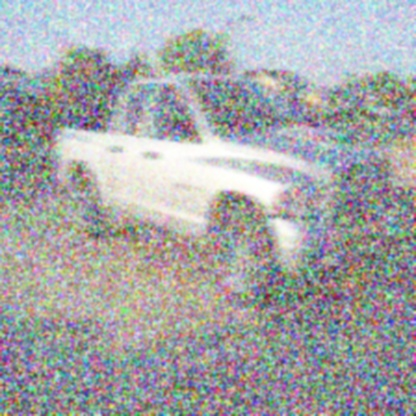Vehicle: (54, 74, 402, 310)
